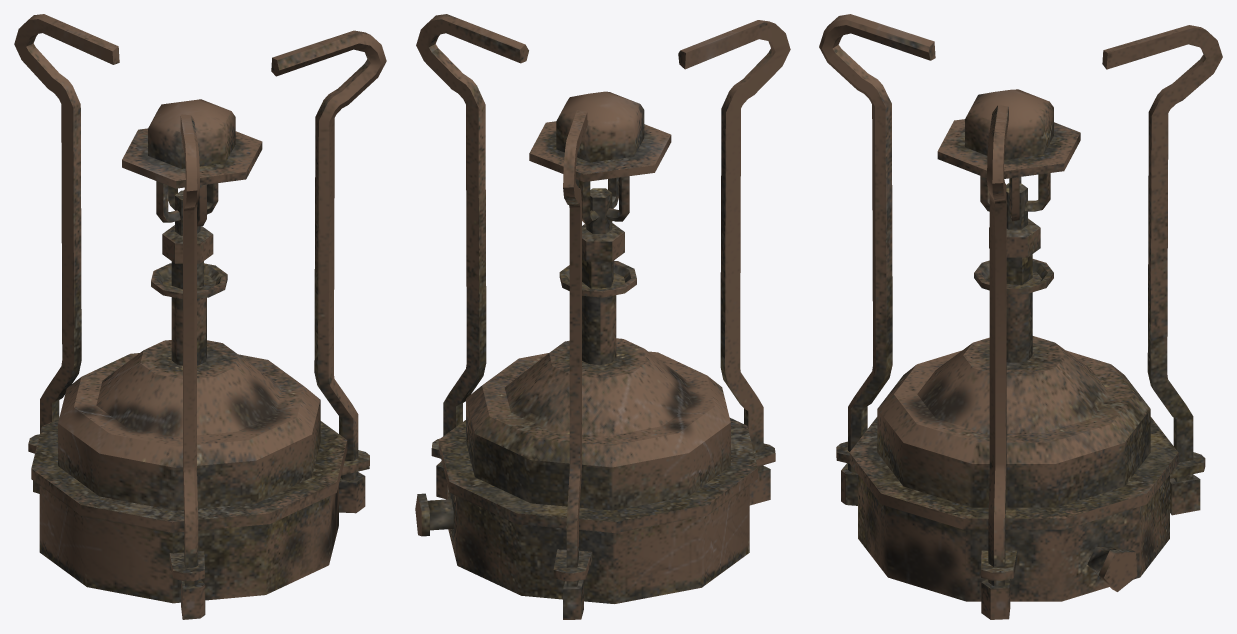
Rendered from SM_Cooker_Kitchen.glb.
3 views of the same model, side by side, from view 1: azimuth 30°, elevation 25°; view 2: azimuth 150°, elevation 25°; view 3: azimuth 270°, elevation 25° (orthographic).
Parts seen in each view (by area): view 1: SM_KeroseneBurner_Kitchen; view 2: SM_KeroseneBurner_Kitchen; view 3: SM_KeroseneBurner_Kitchen.
Boxes of the visible parts, <box> form: SM_KeroseneBurner_Kitchen: <box>14,14,386,619</box>; SM_KeroseneBurner_Kitchen: <box>415,14,790,619</box>; SM_KeroseneBurner_Kitchen: <box>819,14,1222,619</box>.
Bounding box in the file's own units: 0.2142 × 0.3034 × 0.23.
1 material, 1 textured.
